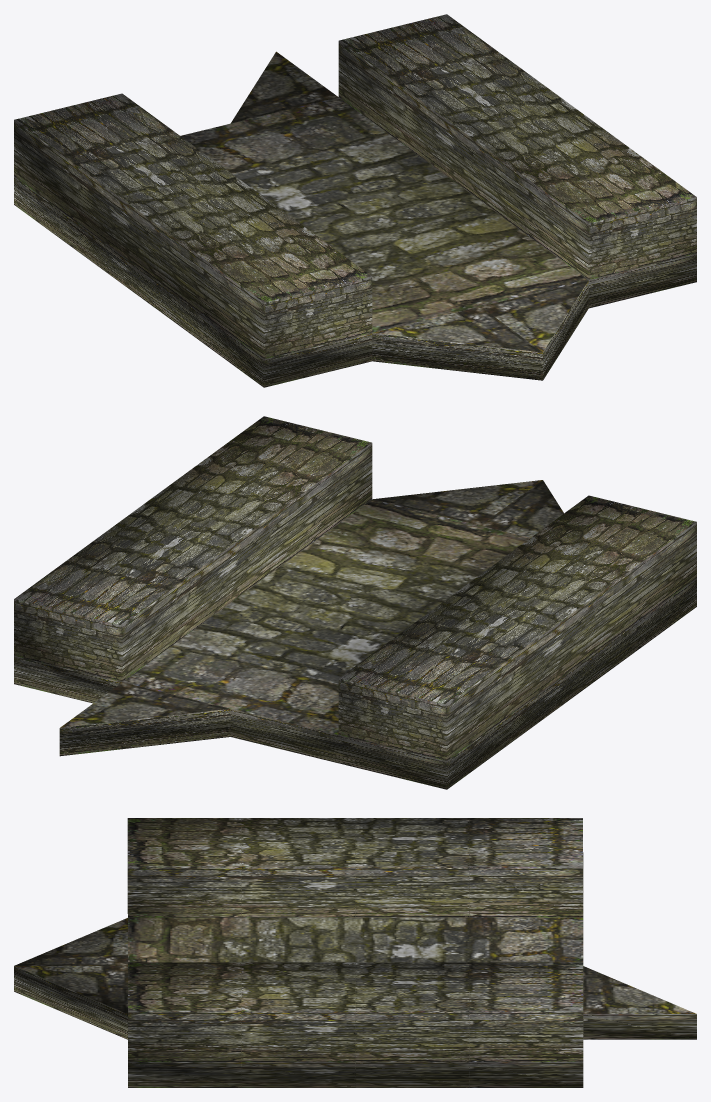
File: bridge.obj
3 renders of one model, top to bottom at view 1: azimuth 30°, elevation 25°; view 2: azimuth 150°, elevation 25°; view 3: azimuth 270°, elevation 25°, orthographic. The views are drawn at different scales.
Visible parts, largest first — view 1: Box001; view 2: Box001; view 3: Box001.
Boxes of the visible parts, bbox=[...] form: Box001: bbox=[14, 14, 696, 387]; Box001: bbox=[14, 416, 696, 789]; Box001: bbox=[14, 818, 696, 1087].
Size of the model in its own units: 4096 by 768 by 6144.
1 material, 1 textured.
